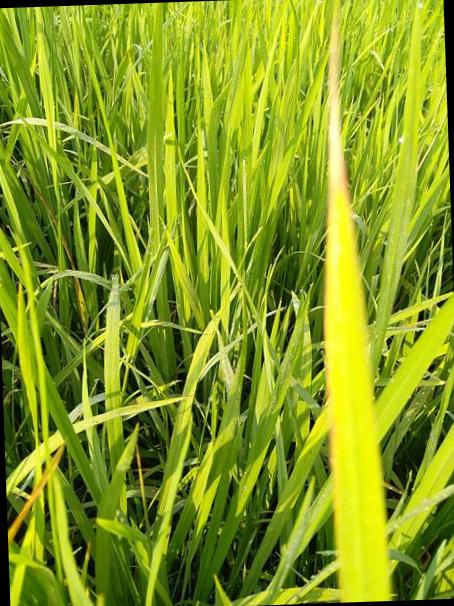Leaf Streak: (325, 37, 366, 333)
